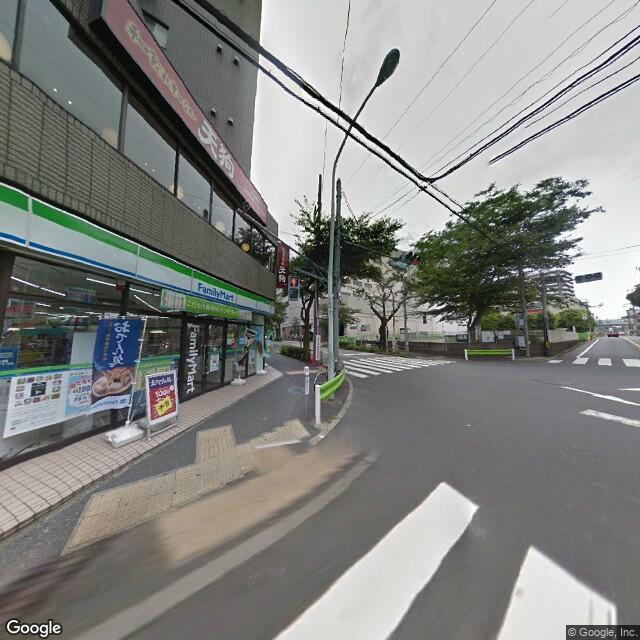family_mart: (2, 182, 277, 320), (181, 319, 199, 400), (192, 276, 239, 305)
